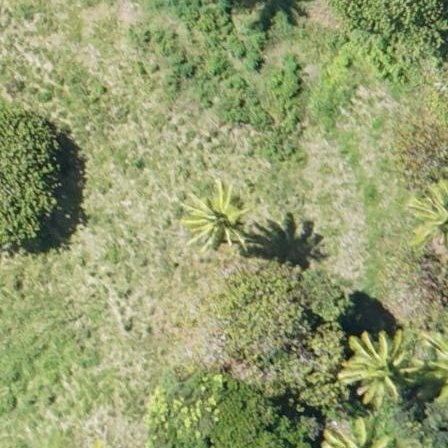palm_tree: (342, 329, 413, 405), (186, 188, 252, 251)
